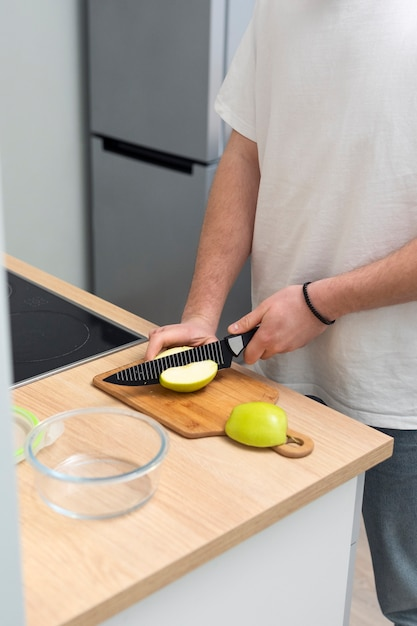knife: (100, 328, 256, 386)
